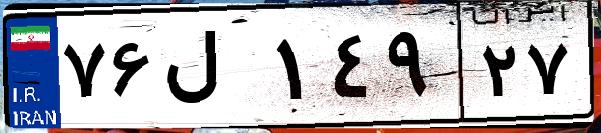1: (270, 28, 330, 110)
2: (475, 38, 525, 113)
4: (330, 28, 385, 110)
6: (110, 28, 158, 98)
7: (57, 26, 110, 100), (525, 38, 570, 115)
9: (385, 28, 445, 110)
ل: (158, 20, 270, 120)
